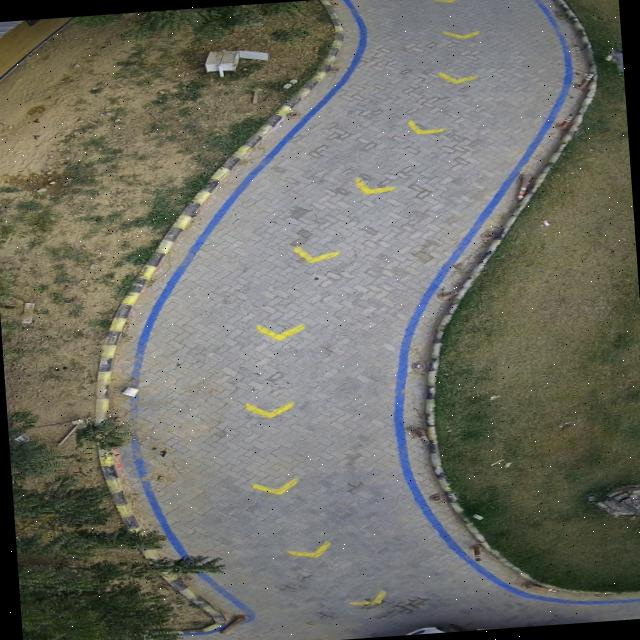car: (392, 624, 501, 636)
